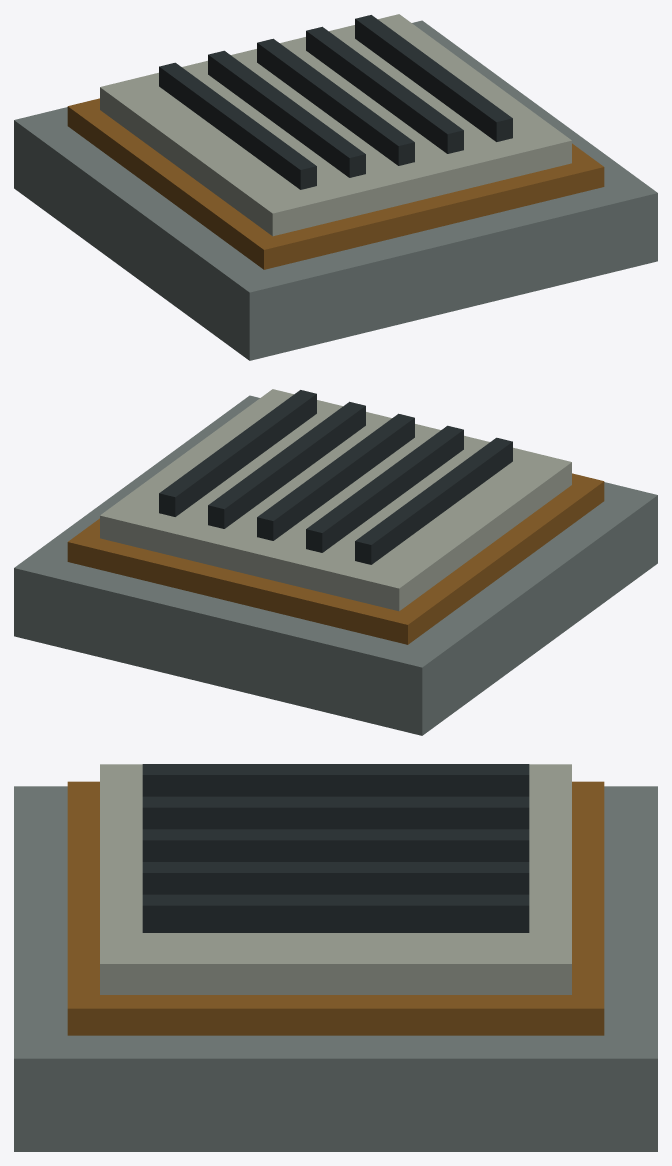
File: MOV_TRAP_FIRE_02.obj
3 renders of one model, top to bottom at view 1: azimuth 30°, elevation 25°; view 2: azimuth 150°, elevation 25°; view 3: azimuth 270°, elevation 25°, orthographic. The views are drawn at different scales.
Parts seen in each view (by area): view 1: Part_0, Part_2, Part_1, Part_4, Part_5, Part_6, Part_3, Part_7; view 2: Part_0, Part_2, Part_1, Part_4, Part_5, Part_6, Part_3, Part_7; view 3: Part_0, Part_2, Part_1, Part_3, Part_6, Part_4, Part_5, Part_7.
Boxes of the visible parts, x1=… form: Part_0: x1=14, y1=20, x2=657, y2=360; Part_2: x1=100, y1=14, x2=571, y2=236; Part_1: x1=67, y1=98, x2=604, y2=269; Part_4: x1=306, y1=26, x2=463, y2=153; Part_5: x1=257, y1=38, x2=414, y2=165; Part_6: x1=208, y1=50, x2=365, y2=177; Part_3: x1=355, y1=15, x2=512, y2=141; Part_7: x1=159, y1=62, x2=316, y2=189; Part_0: x1=14, y1=395, x2=657, y2=735; Part_2: x1=100, y1=389, x2=571, y2=611; Part_1: x1=67, y1=473, x2=604, y2=644; Part_4: x1=208, y1=401, x2=365, y2=528; Part_5: x1=257, y1=413, x2=414, y2=540; Part_6: x1=306, y1=425, x2=463, y2=552; Part_3: x1=159, y1=390, x2=316, y2=516; Part_7: x1=355, y1=437, x2=512, y2=564; Part_0: x1=14, y1=786, x2=657, y2=1151; Part_2: x1=100, y1=764, x2=571, y2=994; Part_1: x1=67, y1=781, x2=604, y2=1035; Part_3: x1=142, y1=894, x2=529, y2=932; Part_6: x1=142, y1=796, x2=529, y2=829; Part_4: x1=142, y1=862, x2=529, y2=894; Part_5: x1=142, y1=829, x2=529, y2=861; Part_7: x1=142, y1=764, x2=529, y2=796.
Size of the model in its own units: 1.5 by 0.465 by 1.5.
